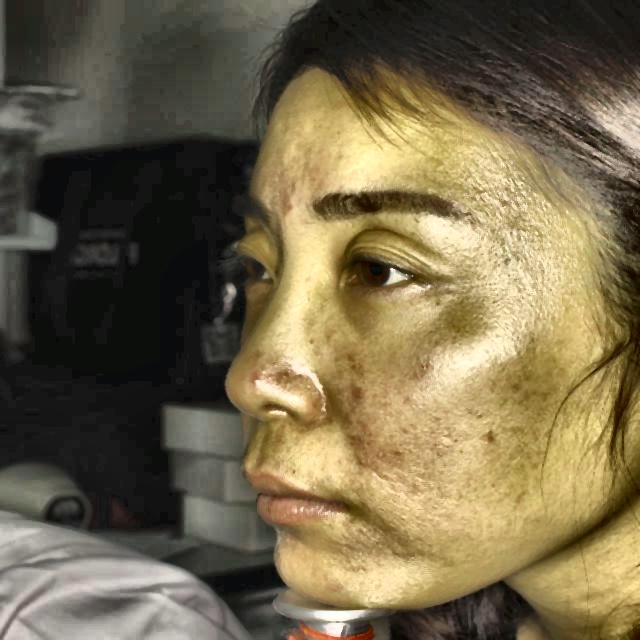comedone: (271, 195, 302, 231), (241, 370, 264, 398)
